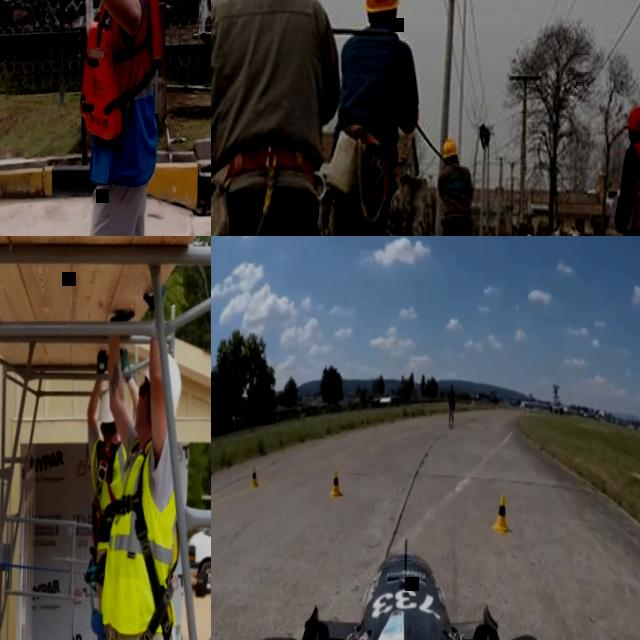Hardhat: (142, 351, 183, 419), (98, 388, 118, 422), (362, 0, 402, 12), (625, 104, 640, 131), (443, 139, 460, 160)
NO-Mask: (135, 388, 149, 431)
NO-Safety Vest: (211, 0, 326, 191), (342, 30, 404, 157), (441, 164, 474, 219), (448, 391, 455, 408)
Person: (94, 283, 186, 640), (211, 0, 346, 236), (50, 0, 170, 236), (329, 0, 423, 236), (78, 344, 140, 640), (435, 137, 476, 236), (611, 103, 640, 236), (447, 383, 456, 428)
Safety Cone: (492, 493, 513, 535), (331, 469, 343, 503), (249, 465, 259, 493)
Safety Vest: (102, 436, 180, 634), (79, 0, 166, 141), (90, 432, 129, 548), (629, 142, 640, 231)
vehicle: (213, 530, 572, 640)
